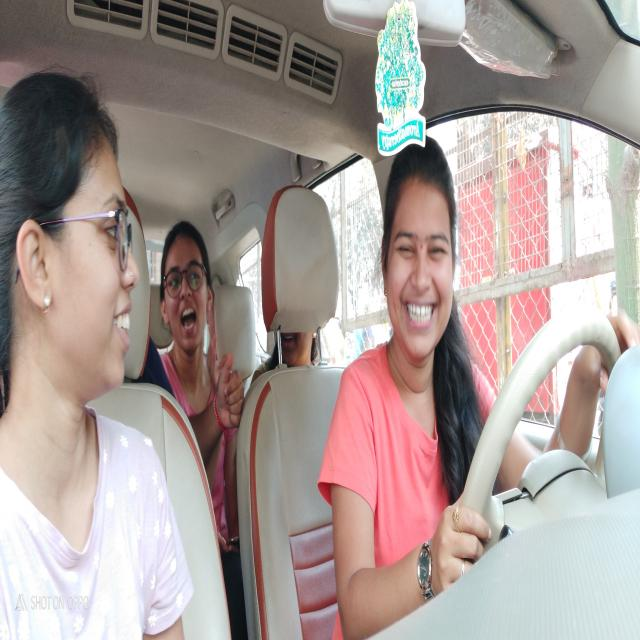LeftRight: (379, 137, 464, 426)
person: (0, 66, 139, 432), (156, 218, 215, 361)
talking: (400, 292, 442, 336)
